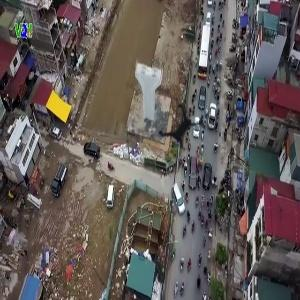drone: (129, 77, 230, 178)
